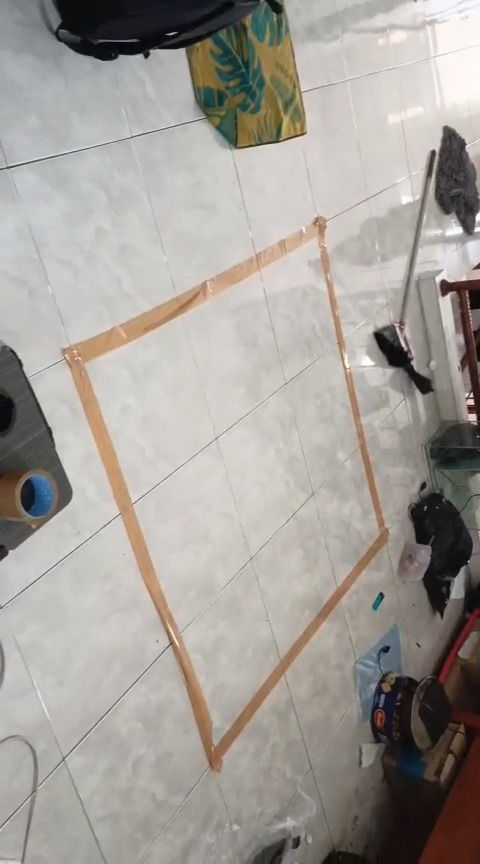floor marking: (65, 217, 388, 770)
